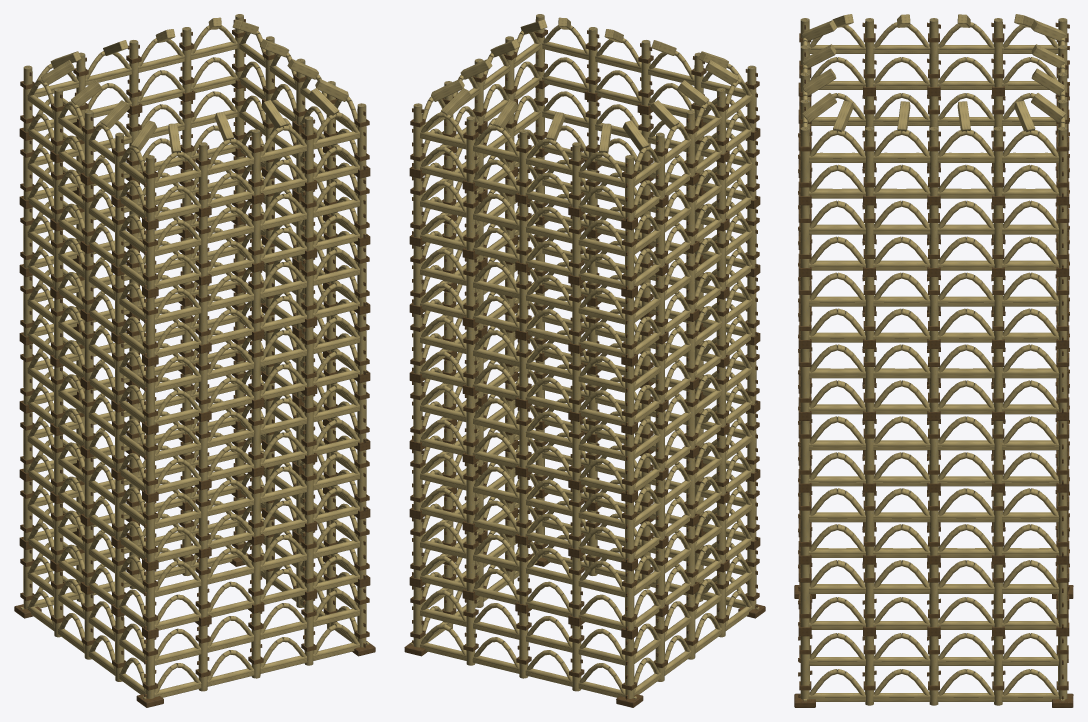
3 renders of one model, left to right at view 1: azimuth 30°, elevation 25°; view 2: azimuth 150°, elevation 25°; view 3: azimuth 270°, elevation 25°, orthographic. The views are drawn at different scales.
Parts seen in each view (by area): view 1: no part large enough to name; view 2: no part large enough to name; view 3: Tier 7 side 1 post 0, Tier 7 side 1 post 2, Tier 7 side 3 post 2, Tier 0 side 1 post 2, Tier 7 side 2 post 0, Tier 7 side 3 post 3, Tier 7 side 1 post 1, Tier 0 side 1 post 1, Tier 7 side 3 post 1, Tier 7 side 1 post 3, Tier 0 side 1 post 3, Tier 3 side 1 post 0 (+33 smaller).
Boxes of the visible parts, box(x1,y1,x2,y2) form: Tier 7 side 1 post 0: box(800, 127, 809, 196); Tier 7 side 1 post 2: box(929, 127, 938, 196); Tier 7 side 3 post 2: box(929, 18, 938, 87); Tier 0 side 1 post 2: box(929, 636, 938, 705); Tier 7 side 2 post 0: box(1058, 127, 1067, 196); Tier 7 side 3 post 3: box(865, 18, 874, 87); Tier 7 side 1 post 1: box(865, 127, 874, 196); Tier 0 side 1 post 1: box(865, 636, 874, 705); Tier 7 side 3 post 1: box(993, 18, 1002, 87); Tier 7 side 1 post 3: box(993, 127, 1002, 196); Tier 0 side 1 post 3: box(993, 636, 1002, 705); Tier 3 side 1 post 0: box(800, 421, 809, 483).
Bounding box in the file's own units: 1.95 × 4.56 × 1.95.
Materials: 2 (2 with a texture image).
